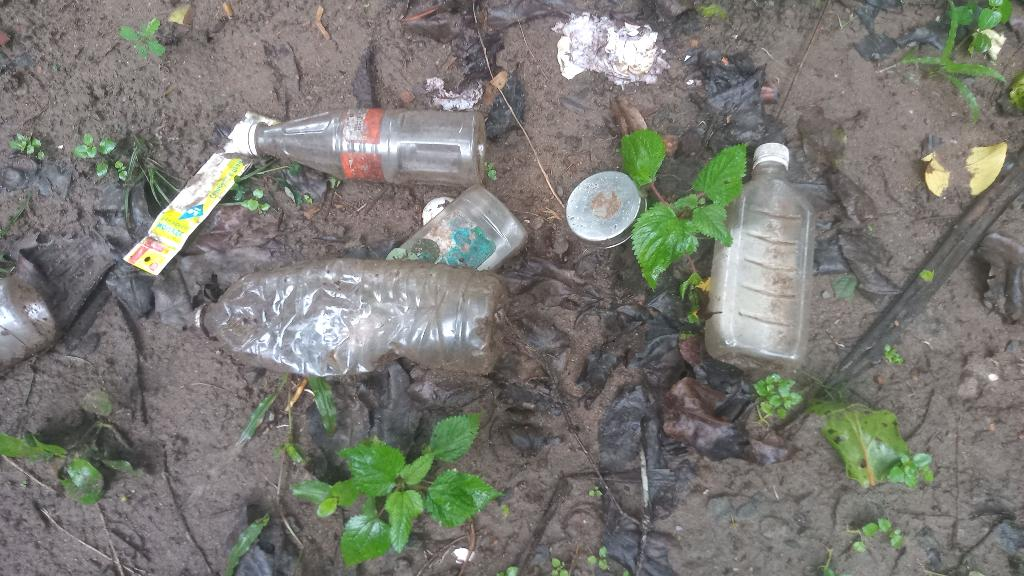garbage: (184, 251, 520, 387), (699, 132, 817, 384), (224, 97, 495, 184), (385, 184, 533, 274), (154, 111, 224, 295)
